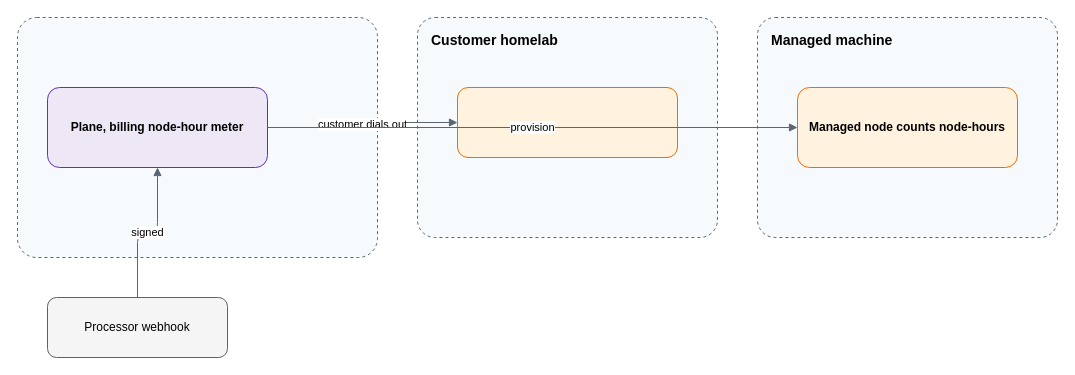
The diagram is 1075 pixels wide and 375 high, and some of its shapes have lost their labels. The shapes that lost their labels are listed below. From the top down, each one's box as (x1, y1, x2, y2) in pixels, then its label:
(16, 16, 378, 258): Agents Hub managed plane
(456, 86, 678, 158): Attached nodes not billed
